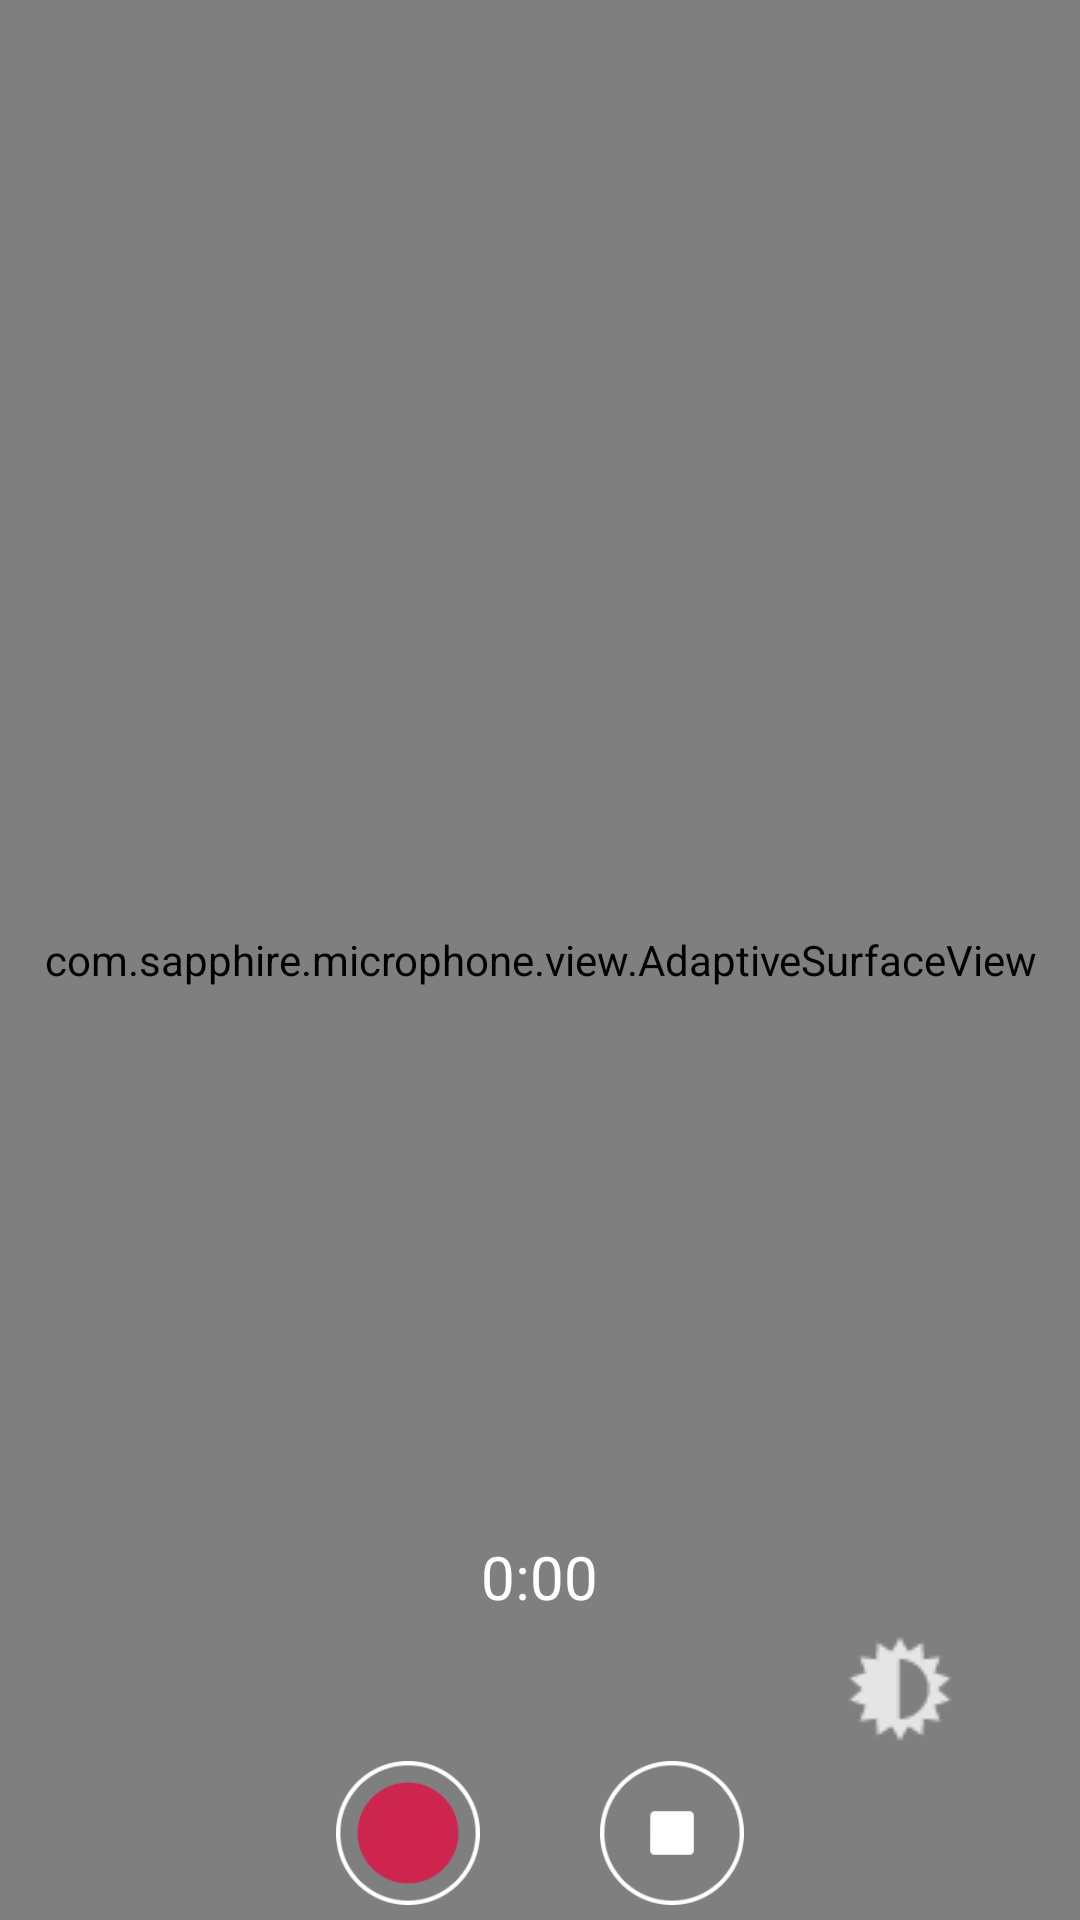

Icon bounding boxes for this 1080 × 1920 phone screenshot, format {"x1": x1, "y1": y1, "x2": x2, "y2": y2}:
exposure: {"x1": 850, "y1": 1638, "x2": 950, "y2": 1740}
record: {"x1": 336, "y1": 1761, "x2": 480, "y2": 1905}
stop: {"x1": 600, "y1": 1761, "x2": 744, "y2": 1905}
